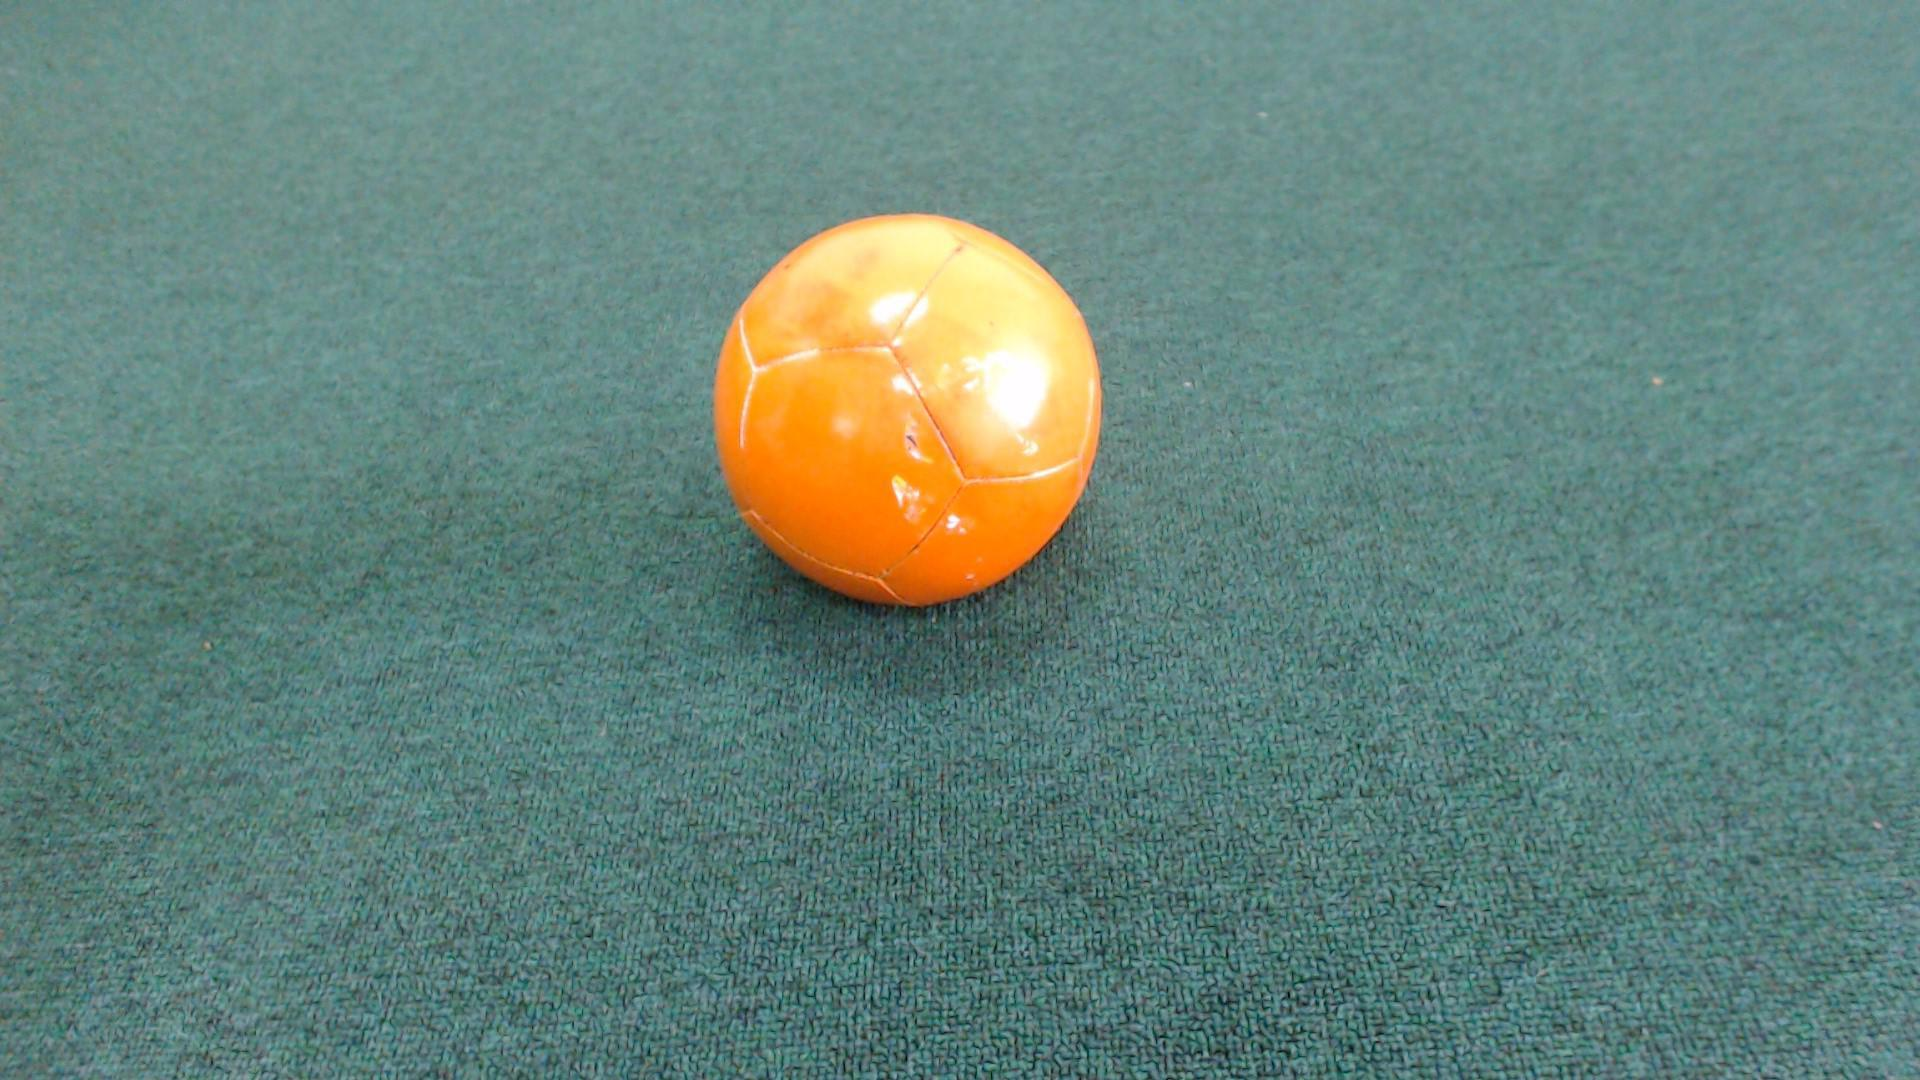bola: (674, 207, 1122, 611)
